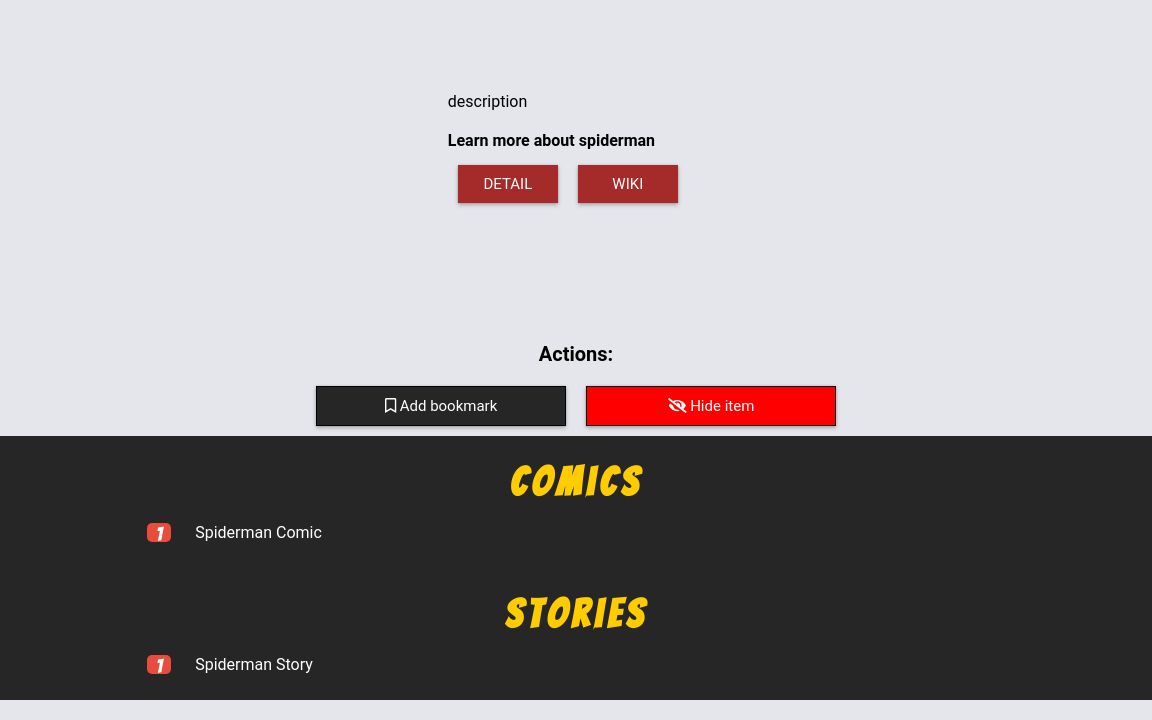
Test case: Test in ViewCharacterPage component › should Add/Remove bookmark
(page scrolled)
Click the button "Add bookmark": (441, 406) [316,386,566,426]
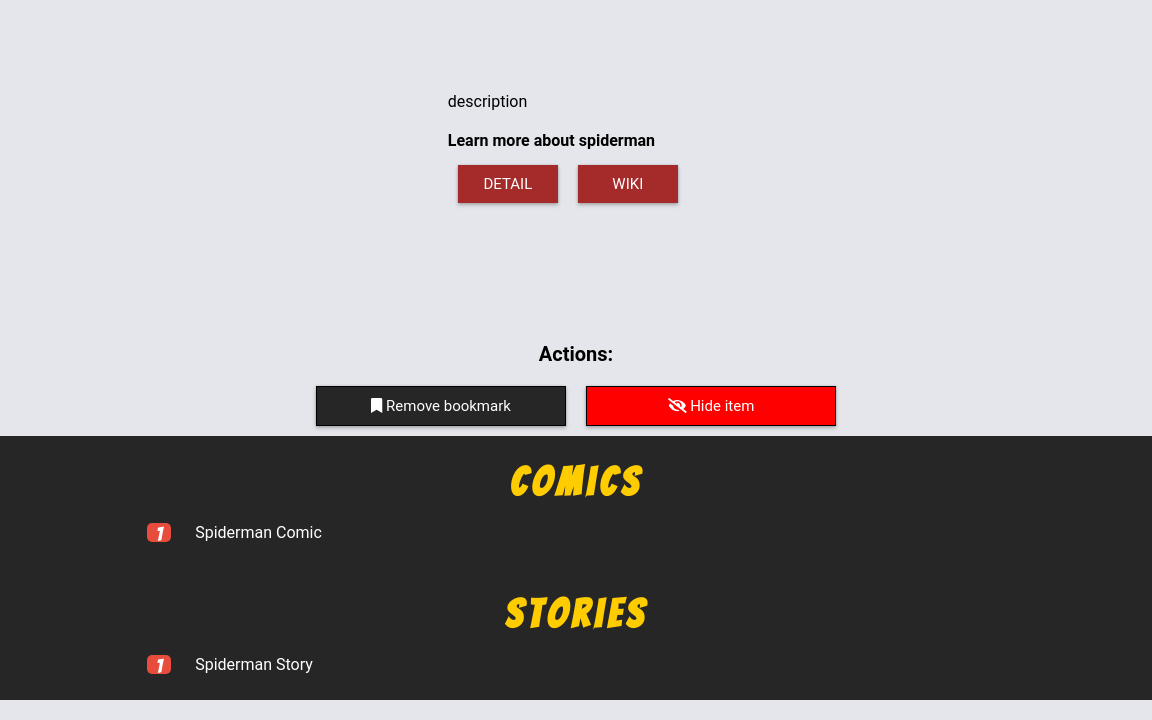
Expected: the button "Remove bookmark" is shown
Click the button "Remove bookmark": (441, 406) [316,386,566,426]
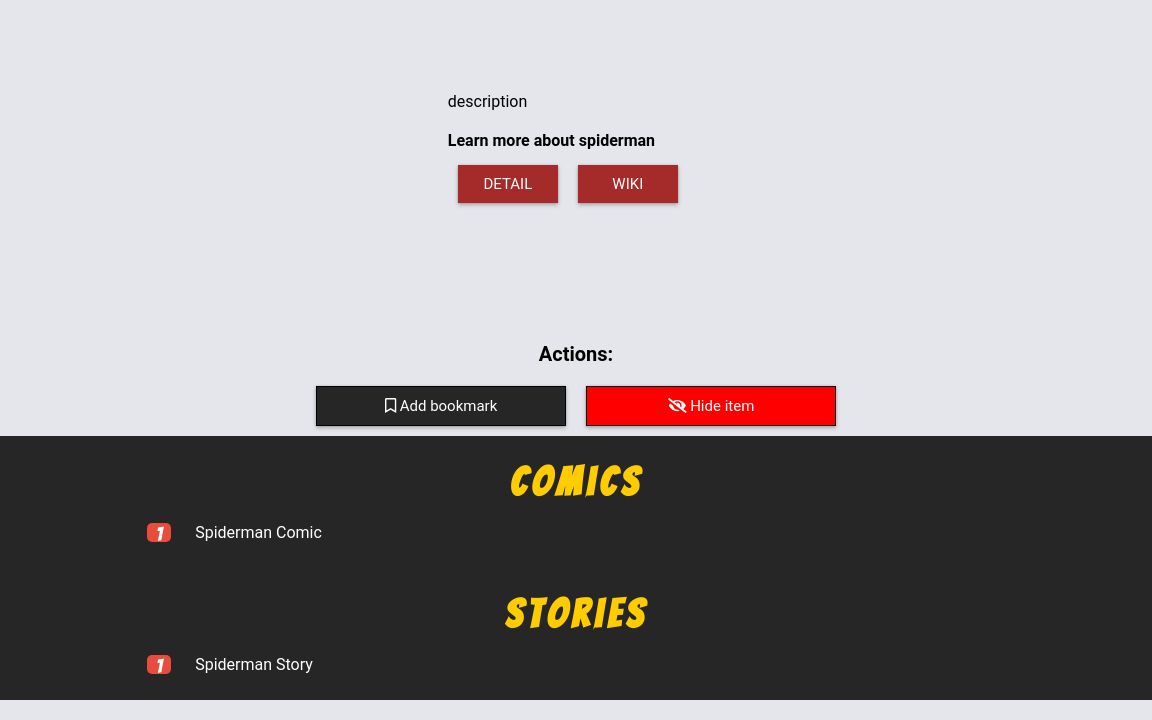
Expected: the button "Add bookmark" is shown, [316,386,566,426]
